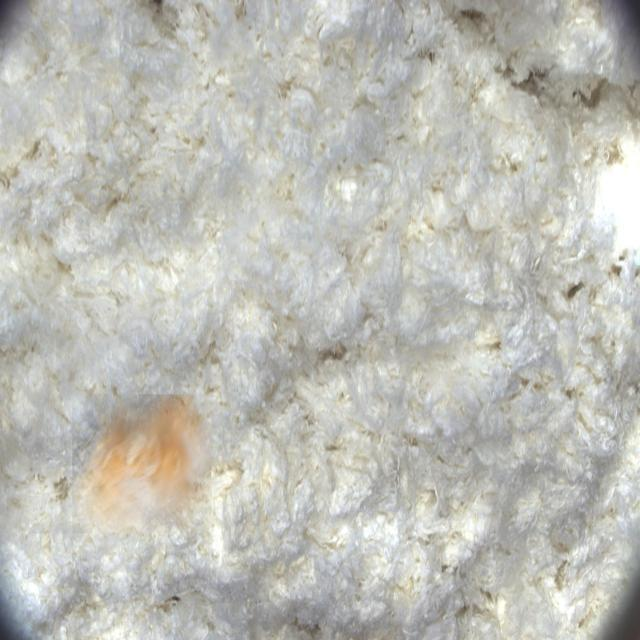dust: (73, 394, 212, 534)
